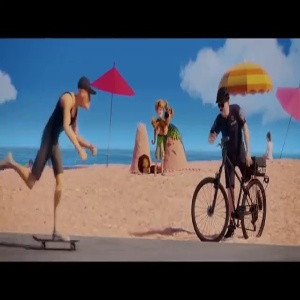Scooby: (164, 106, 174, 121)
Shagy: (154, 97, 165, 119)
